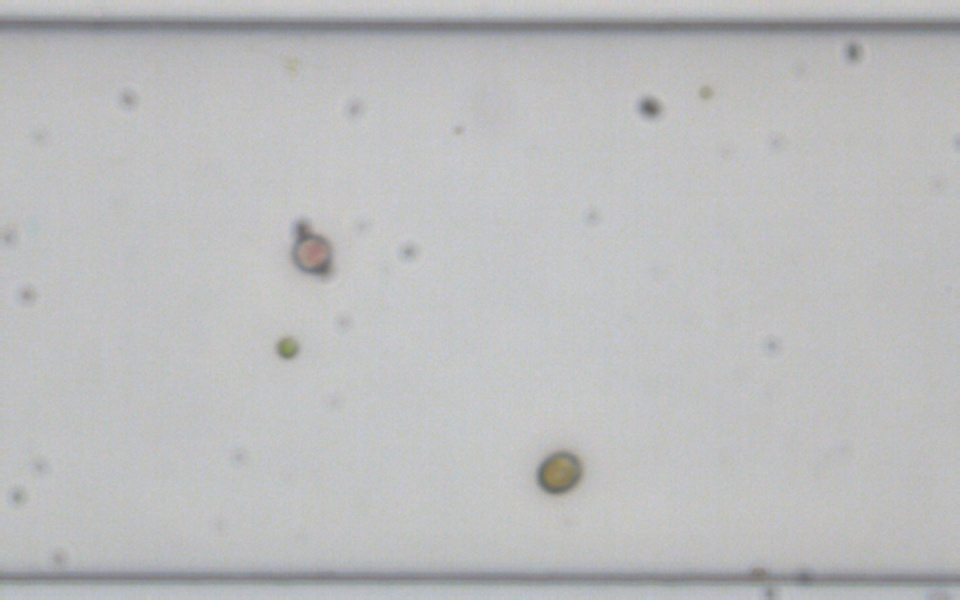Chlorella: (275, 334, 298, 358), (697, 83, 714, 99)
Effrenium: (533, 446, 582, 496)
Porphyridium: (289, 232, 332, 273)
